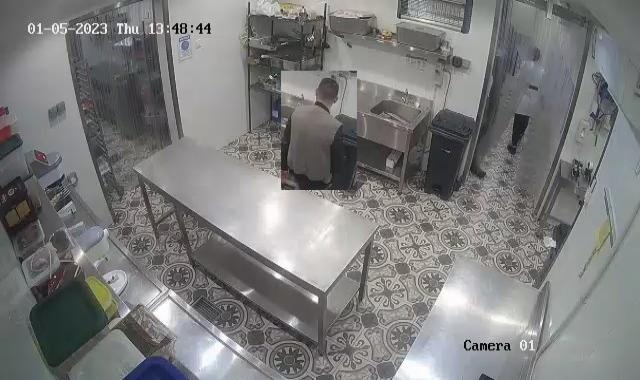no_hairnet: (314, 74, 344, 105)
